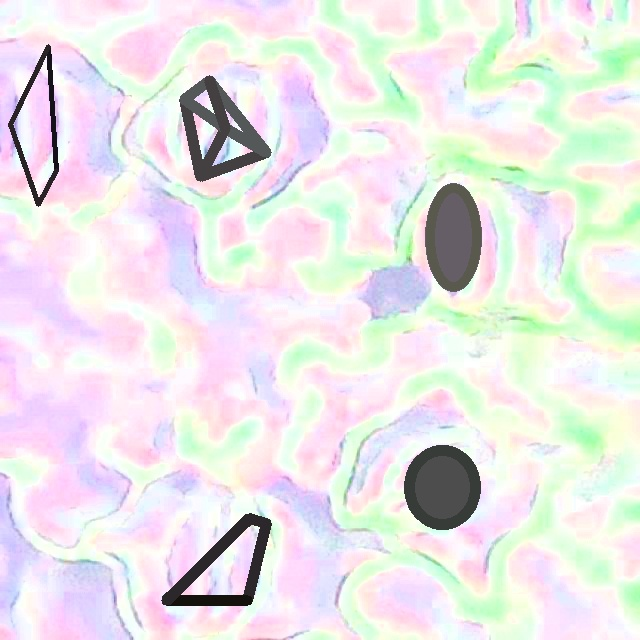close: (404, 444, 480, 529)
open: (162, 514, 270, 605), (179, 76, 271, 181), (9, 45, 58, 205), (426, 183, 480, 291)
